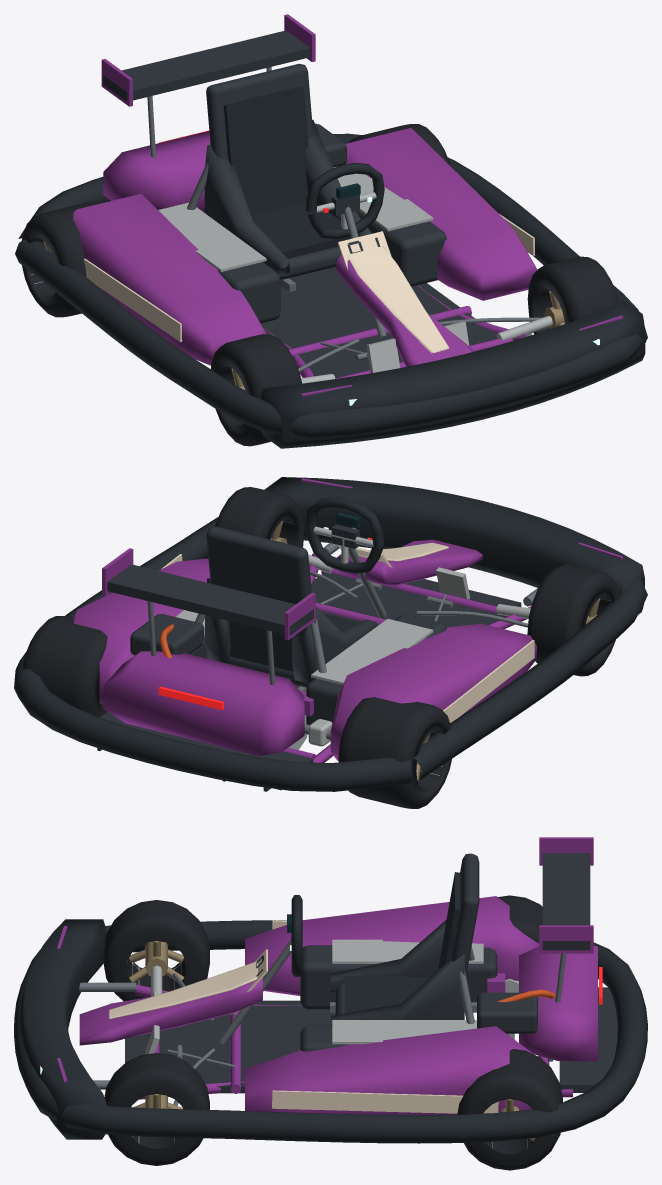
The model's file is vortex-lod.glb.
3 renders of one model, top to bottom at view 1: azimuth 30°, elevation 25°; view 2: azimuth 150°, elevation 25°; view 3: azimuth 270°, elevation 25°, orthographic.
Visible parts, largest first — view 1: Moulded bumper polymer (×3), paint, Satin composite, Slick vulcanised rubber (×4), Seat fabric, Brushed alloy (×2), Livery ivory, Steel fasteners; view 2: Moulded bumper polymer (×3), paint, Satin composite (×3), Slick vulcanised rubber (×4), Brushed alloy (×3), Steel fasteners, Livery ivory, brake_light; view 3: paint, Moulded bumper polymer (×3), Satin composite (×2), Slick vulcanised rubber (×4), Livery ivory, Brushed alloy, Seat fabric, Steel fasteners (×2), Magnesium wheel centres.
Boxes of the visible parts, x1,y1,x2,y2 form: Moulded bumper polymer (×3): (15, 133, 647, 448); paint: (73, 14, 537, 378); Satin composite: (103, 30, 497, 378); Slick vulcanised rubber (×4): (21, 124, 618, 446); Seat fabric: (223, 86, 359, 258); Brushed alloy (×2): (158, 163, 552, 383); Livery ivory: (83, 214, 534, 353); Steel fasteners: (147, 67, 541, 372); Moulded bumper polymer (×3): (14, 477, 647, 791); paint: (73, 539, 536, 762); Satin composite (×3): (97, 524, 521, 791); Slick vulcanised rubber (×4): (22, 487, 620, 808); Brushed alloy (×3): (176, 526, 530, 749); Steel fasteners: (147, 547, 528, 739); Livery ivory: (161, 542, 534, 722); brake_light: (158, 686, 223, 709); paint: (79, 837, 597, 1114); Moulded bumper polymer (×3): (14, 895, 647, 1143); Satin composite (×2): (125, 853, 617, 1093); Slick vulcanised rubber (×4): (103, 895, 562, 1170); Livery ivory: (109, 920, 498, 1113); Brushed alloy: (151, 939, 518, 1044); Seat fabric: (344, 872, 460, 1013); Steel fasteners (×2): (79, 939, 566, 1108); Magnesium wheel centres: (129, 941, 184, 982).
Size of the model in its own units: 2.17 by 1.01 by 2.8.
